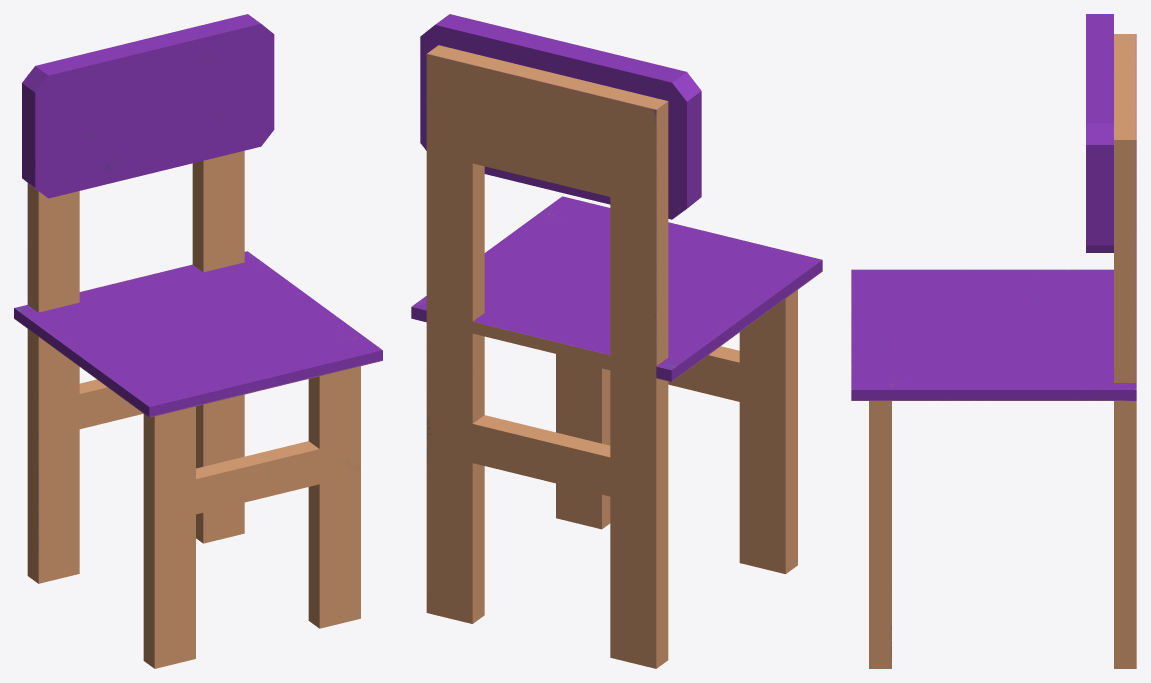
File: ENV_Chair_Style2_purple_v000.fbx
3 renders of one model, left to right at view 1: azimuth 30°, elevation 25°; view 2: azimuth 150°, elevation 25°; view 3: azimuth 270°, elevation 25°, orthographic. The views are drawn at different scales.
Parts seen in each view (by area): view 1: pCube2; view 2: pCube2; view 3: pCube2.
Part boxes in pixels (x1,y1,x2,y2): pCube2: (14,14,382,668); pCube2: (411,14,822,668); pCube2: (851,14,1136,668).
Bounding box in the file's own units: 0.5515 × 1.14 × 0.5407.
